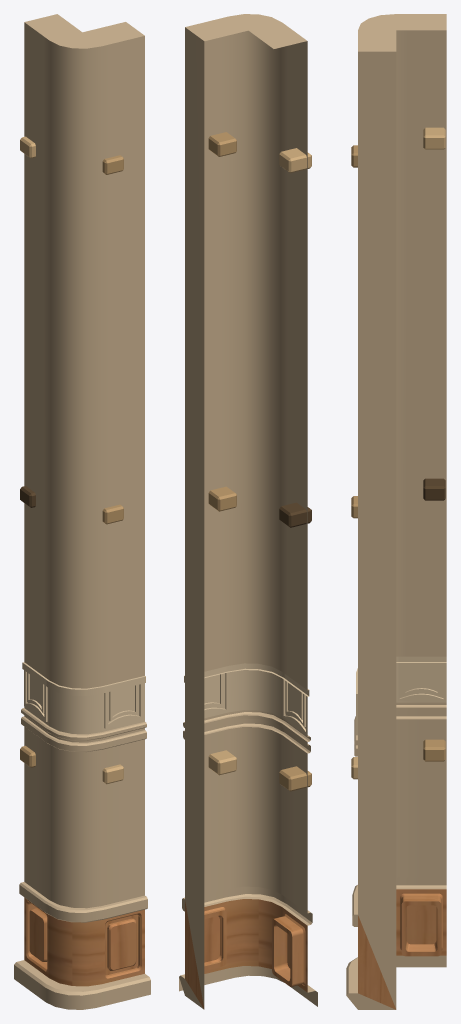
Rendered from Wall 6 right.fbx.
The picture shows the model from 3 angles, left to right: view 1: azimuth 30°, elevation 25°; view 2: azimuth 210°, elevation 25°; view 3: azimuth 270°, elevation 25°; orthographic projection.
Parts seen in each view (by area): view 1: Wall 7 right.001; view 2: Wall 7 right.001; view 3: Wall 7 right.001.
Part boxes in pixels (x1,y1,x2,y2): Wall 7 right.001: (14, 14, 150, 1009); Wall 7 right.001: (179, 14, 317, 1009); Wall 7 right.001: (346, 14, 446, 1009).
Size of the model in its own units: 200 by 2102 by 200.
